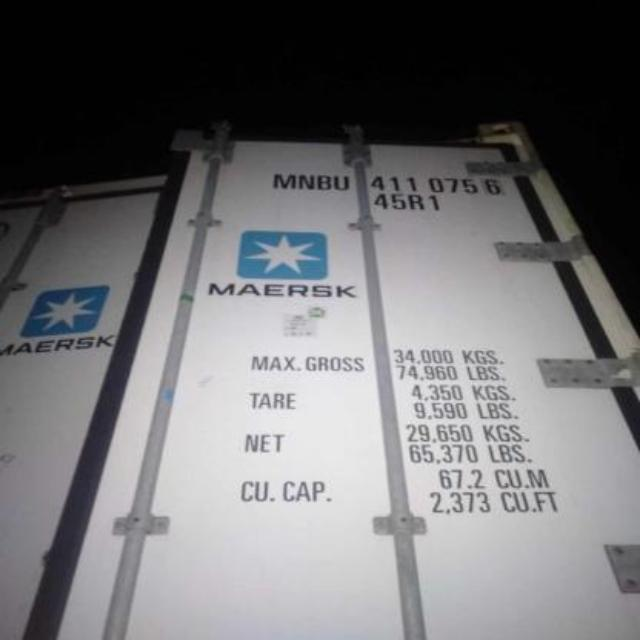0: (428, 176, 444, 194)
1: (405, 175, 419, 192), (389, 176, 401, 192)
4: (369, 174, 385, 192)
5: (462, 178, 480, 195)
6: (484, 177, 504, 197)
7: (444, 176, 460, 194)
B: (316, 174, 332, 192)
M: (273, 172, 297, 190)
N: (299, 173, 315, 191)
U: (334, 174, 351, 192)
